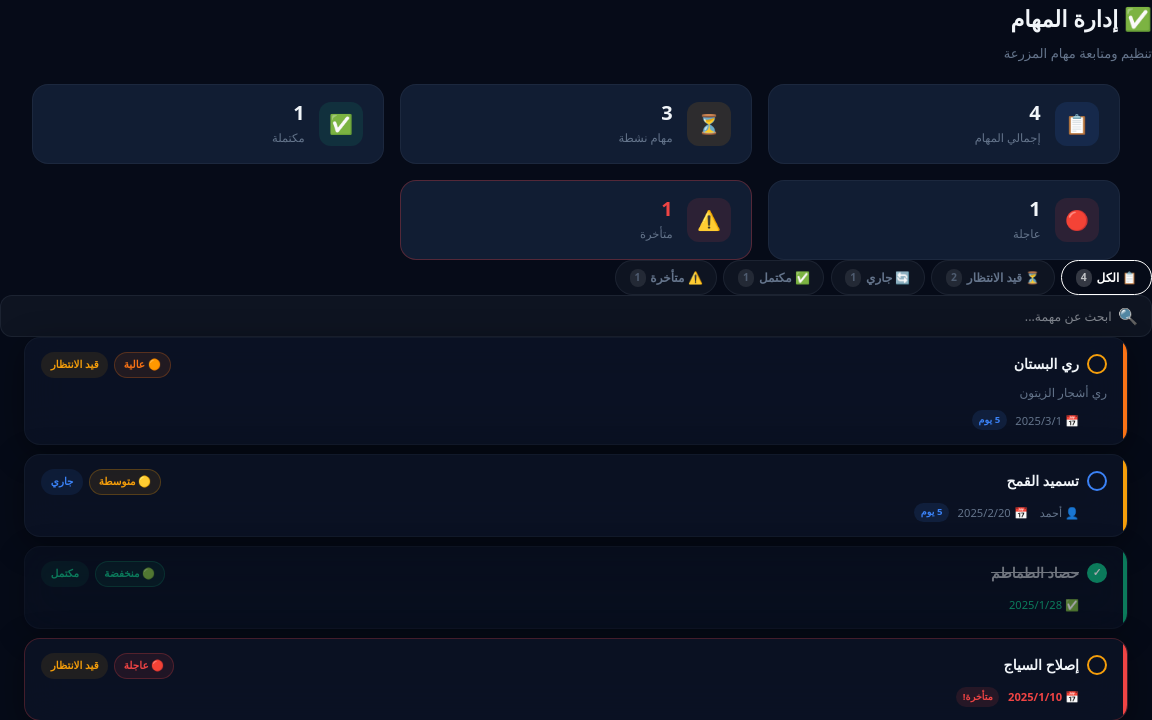
Test case: ClientTasks › filters tasks by status (pending)
Click the button "⏳ قيد الانتظار 2": (993, 278) x1=932 y1=260 x2=1055 y2=296
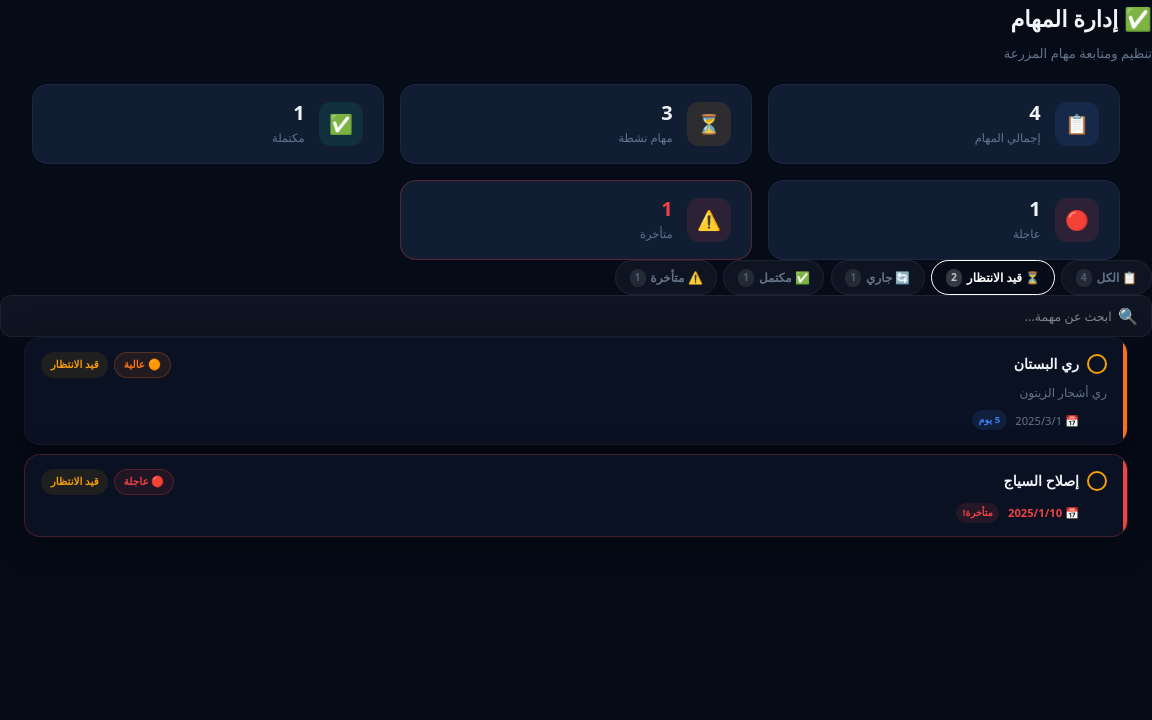
Expected: the heading "ري البستان" is shown, x1=1014 y1=352 x2=1079 y2=376
Expected: the heading "تسميد القمح" is gone
Expected: the heading "حصاد الطماطم" is gone
